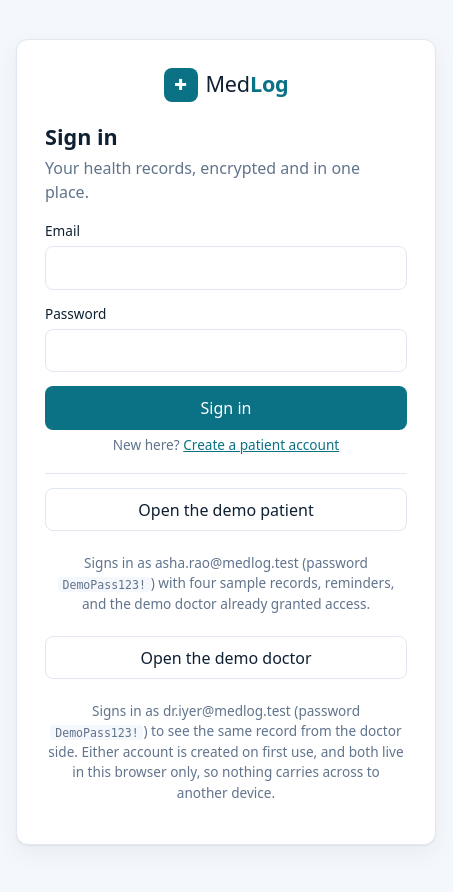
Test: LoginPage › reports a failure to open the demo patient
Click the button "Open the demo patient" at x=226, y=510, box [45,488,407,531]
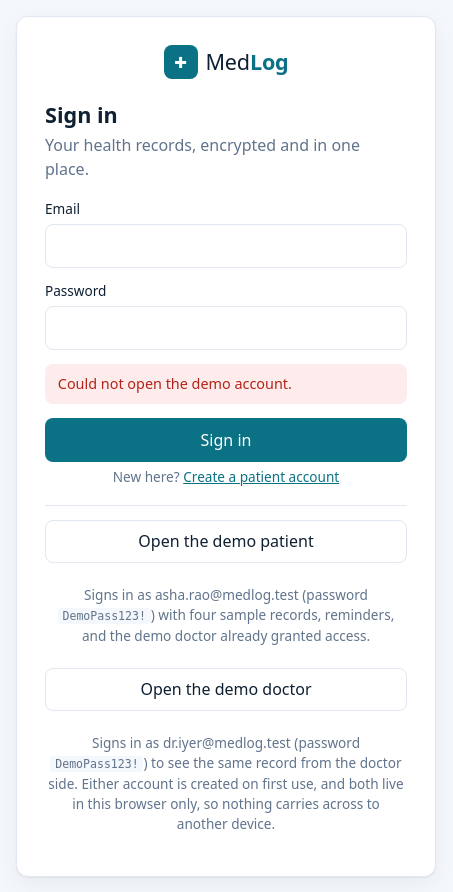
Check: the message shows "Could not open the demo account", box [58,374,292,393]
